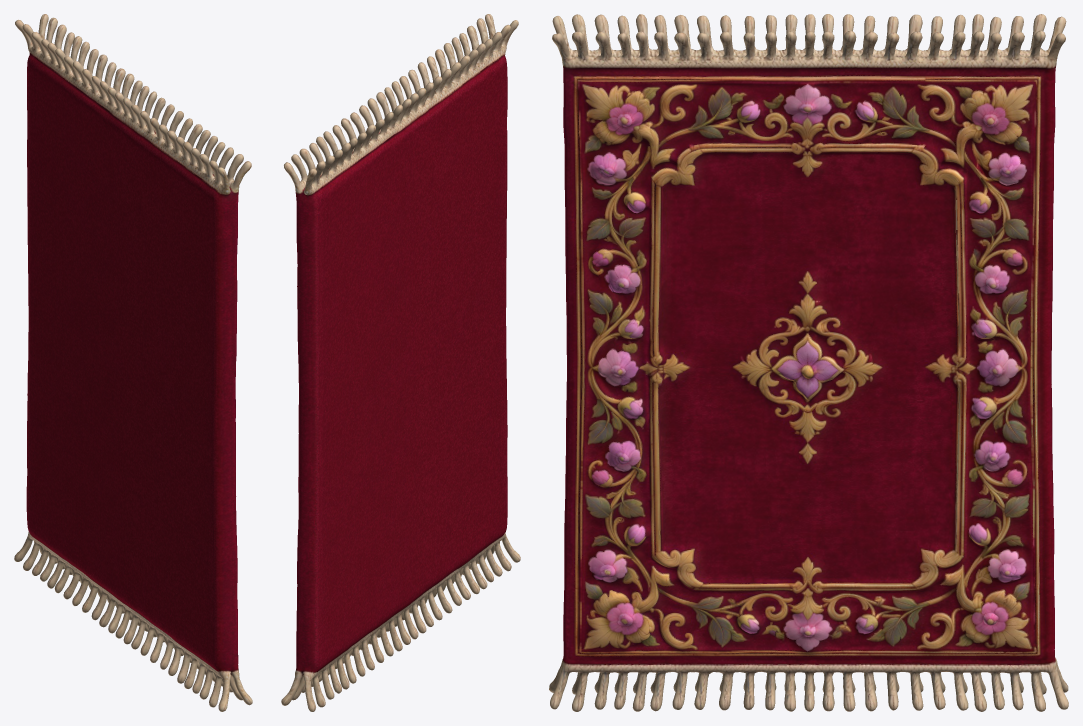
3 renders of one model, left to right at view 1: azimuth 30°, elevation 25°; view 2: azimuth 150°, elevation 25°; view 3: azimuth 270°, elevation 25°, orthographic. The views are drawn at different scales.
Parts seen in each view (by area): view 1: tripo_node_77f847a5-9533-4777-8f1f-4118dac60ac6; view 2: tripo_node_77f847a5-9533-4777-8f1f-4118dac60ac6; view 3: tripo_node_77f847a5-9533-4777-8f1f-4118dac60ac6.
Part boxes in pixels (left/top/right/bottom): tripo_node_77f847a5-9533-4777-8f1f-4118dac60ac6: left=14, top=14, right=252, bottom=711; tripo_node_77f847a5-9533-4777-8f1f-4118dac60ac6: left=281, top=14, right=520, bottom=711; tripo_node_77f847a5-9533-4777-8f1f-4118dac60ac6: left=549, top=14, right=1068, bottom=711.
Bounding box in the file's own units: 0.0668 × 0.9756 × 0.6754.
1 material, 1 textured.
